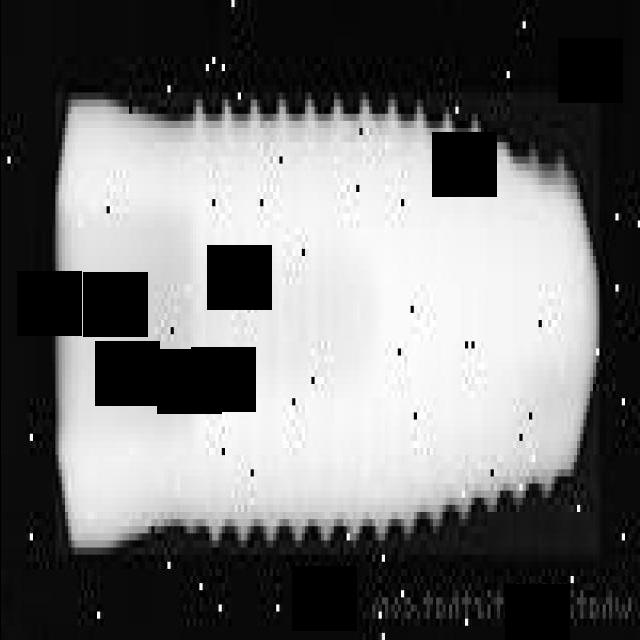Leone Implant: (53, 86, 602, 555)
